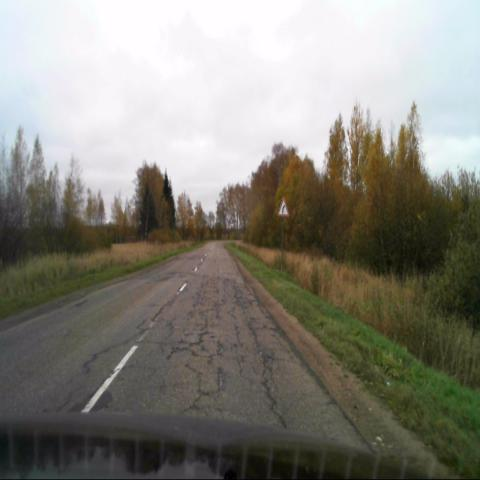1_11: (277, 196, 290, 217)
